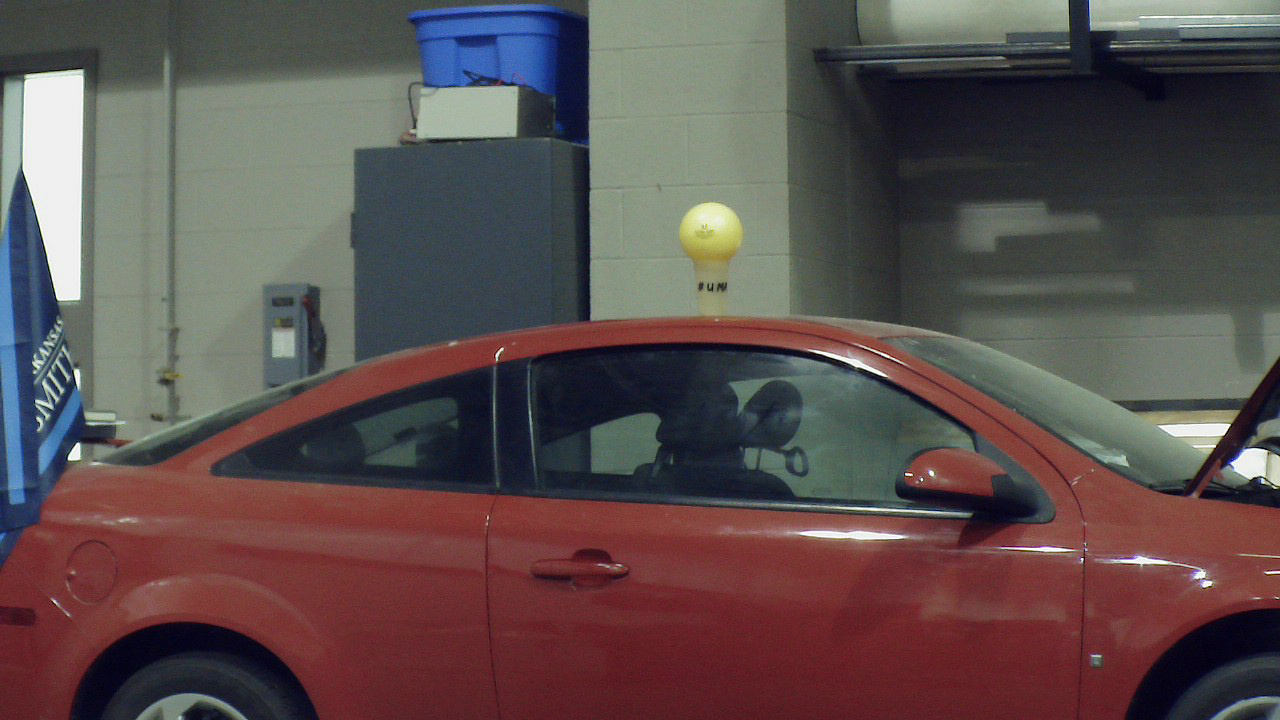yellowBall: (681, 204, 750, 268)
